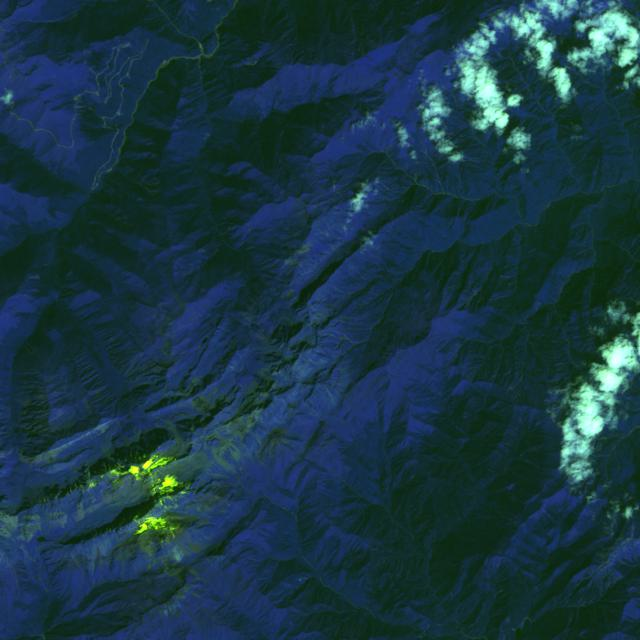landslides: (121, 171, 158, 199), (51, 408, 87, 433), (580, 468, 602, 499), (85, 537, 100, 582), (324, 495, 359, 514), (139, 530, 156, 567), (563, 454, 588, 478), (569, 472, 597, 492), (70, 545, 86, 578), (163, 530, 180, 561), (446, 126, 471, 146), (481, 67, 505, 86), (269, 540, 297, 555), (103, 532, 113, 573), (218, 451, 235, 475), (377, 180, 403, 194), (403, 234, 425, 250), (597, 606, 619, 622), (513, 457, 540, 470), (507, 467, 532, 481), (385, 241, 419, 250), (504, 89, 525, 103), (603, 611, 615, 634), (227, 441, 242, 458), (279, 26, 297, 40), (325, 384, 337, 405), (353, 516, 365, 536), (562, 608, 574, 627), (592, 606, 602, 628), (227, 444, 238, 462), (585, 607, 596, 624), (391, 259, 405, 271), (349, 510, 364, 521), (516, 590, 530, 601), (518, 576, 529, 590), (511, 96, 526, 105), (459, 153, 478, 160), (614, 448, 620, 469), (544, 399, 565, 405), (26, 274, 41, 282), (374, 517, 391, 524), (26, 341, 35, 354), (624, 115, 640, 122), (558, 63, 574, 70), (380, 169, 396, 176), (245, 629, 256, 639), (436, 128, 458, 133), (621, 481, 627, 499), (546, 138, 555, 150), (143, 179, 158, 186), (31, 620, 38, 635)
